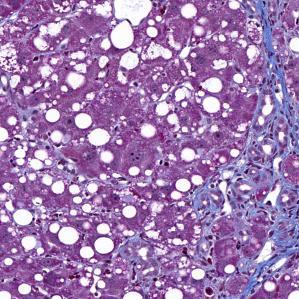fibrosis: (197, 174, 299, 261), (240, 85, 299, 166)
